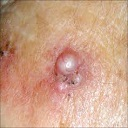Carcinoma: (55, 50, 86, 91)
